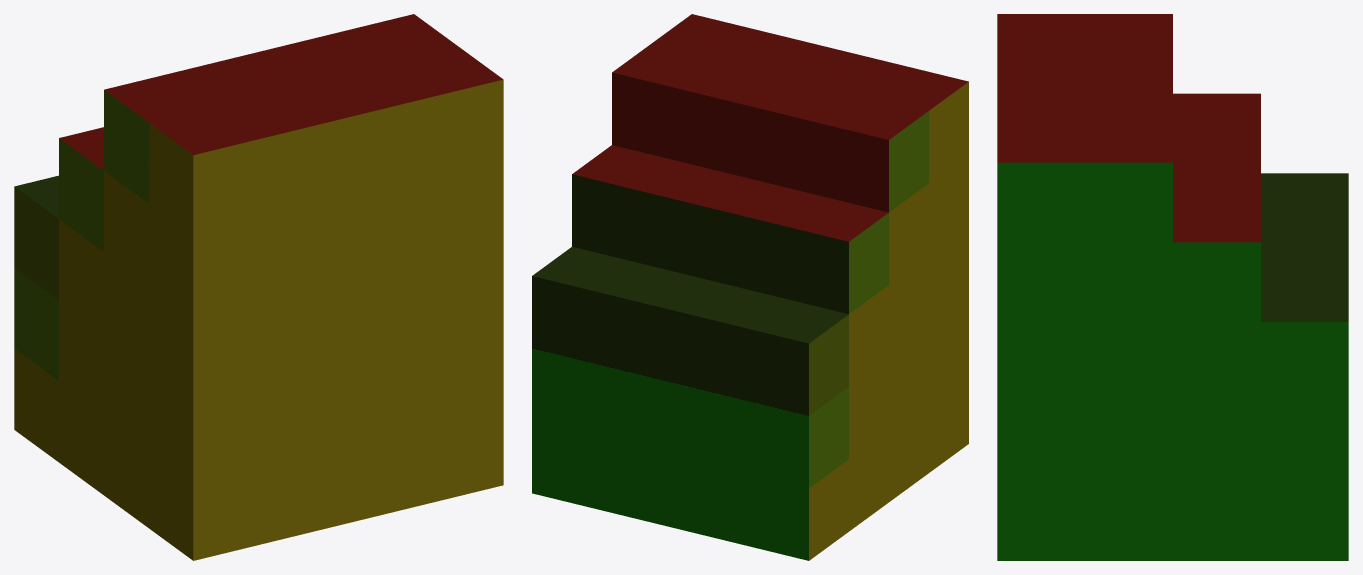
The model's file is block_25.fbx.
3 views of the same model, side by side, from view 1: azimuth 30°, elevation 25°; view 2: azimuth 150°, elevation 25°; view 3: azimuth 270°, elevation 25° (orthographic). The views are drawn at different scales.
Visible parts, largest first — view 1: box.010; view 2: box.010; view 3: box.010.
Boxes of the visible parts, <box> form: box.010: <box>14,14,503,560</box>; box.010: <box>532,14,968,560</box>; box.010: <box>997,14,1348,560</box>.
Bounding box in the file's own units: 400 × 500 × 400.
